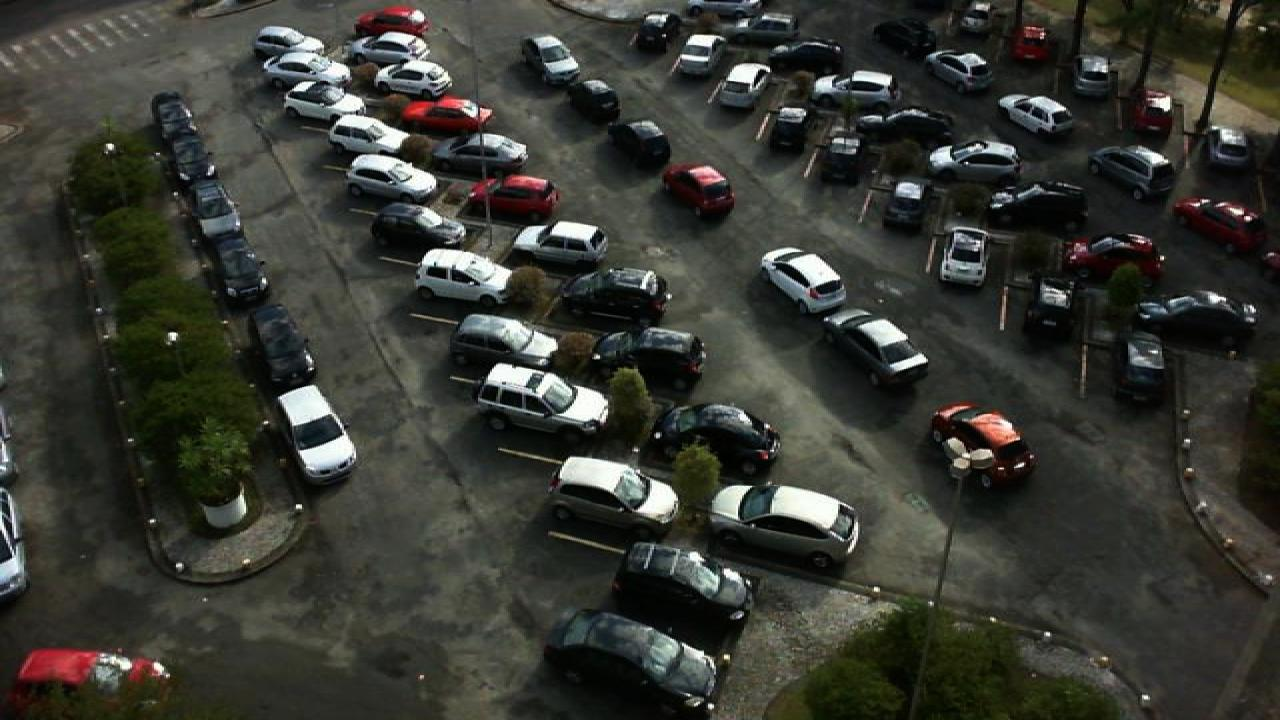Car: (542, 606, 722, 711), (710, 482, 860, 568), (614, 540, 754, 628), (8, 648, 176, 720), (548, 454, 680, 540), (472, 361, 610, 442), (654, 402, 786, 479), (928, 402, 1036, 490), (276, 382, 358, 488), (824, 308, 930, 390), (588, 325, 710, 392), (1136, 289, 1256, 349), (414, 248, 528, 308), (448, 313, 560, 372), (566, 266, 674, 325), (758, 246, 848, 316), (1168, 195, 1270, 252), (250, 302, 314, 386), (1090, 143, 1180, 202), (1064, 233, 1164, 286), (370, 203, 470, 253), (512, 219, 610, 269), (984, 181, 1090, 227), (346, 153, 440, 204), (924, 138, 1022, 184), (1112, 330, 1172, 405), (430, 132, 532, 176), (212, 234, 272, 308), (468, 174, 562, 221), (658, 162, 736, 217), (328, 115, 414, 161), (282, 78, 366, 122), (996, 92, 1076, 138), (860, 106, 956, 144), (1032, 273, 1084, 340), (400, 97, 494, 134), (934, 226, 990, 288), (608, 119, 674, 171), (262, 53, 352, 91), (190, 178, 240, 241), (374, 60, 452, 100), (522, 35, 582, 87), (806, 73, 888, 111), (922, 50, 990, 94), (348, 31, 430, 66), (870, 18, 938, 60), (762, 39, 844, 73), (718, 61, 776, 108), (564, 79, 620, 125), (352, 4, 432, 36), (252, 26, 324, 61), (880, 179, 930, 229), (1128, 86, 1176, 136), (830, 130, 878, 178), (676, 32, 728, 76), (170, 131, 214, 182), (1206, 126, 1254, 170), (766, 105, 812, 150), (1068, 54, 1114, 99), (630, 11, 678, 54), (150, 90, 192, 138), (730, 12, 802, 40), (1010, 23, 1050, 63), (686, 0, 766, 18), (956, 1, 996, 35)
